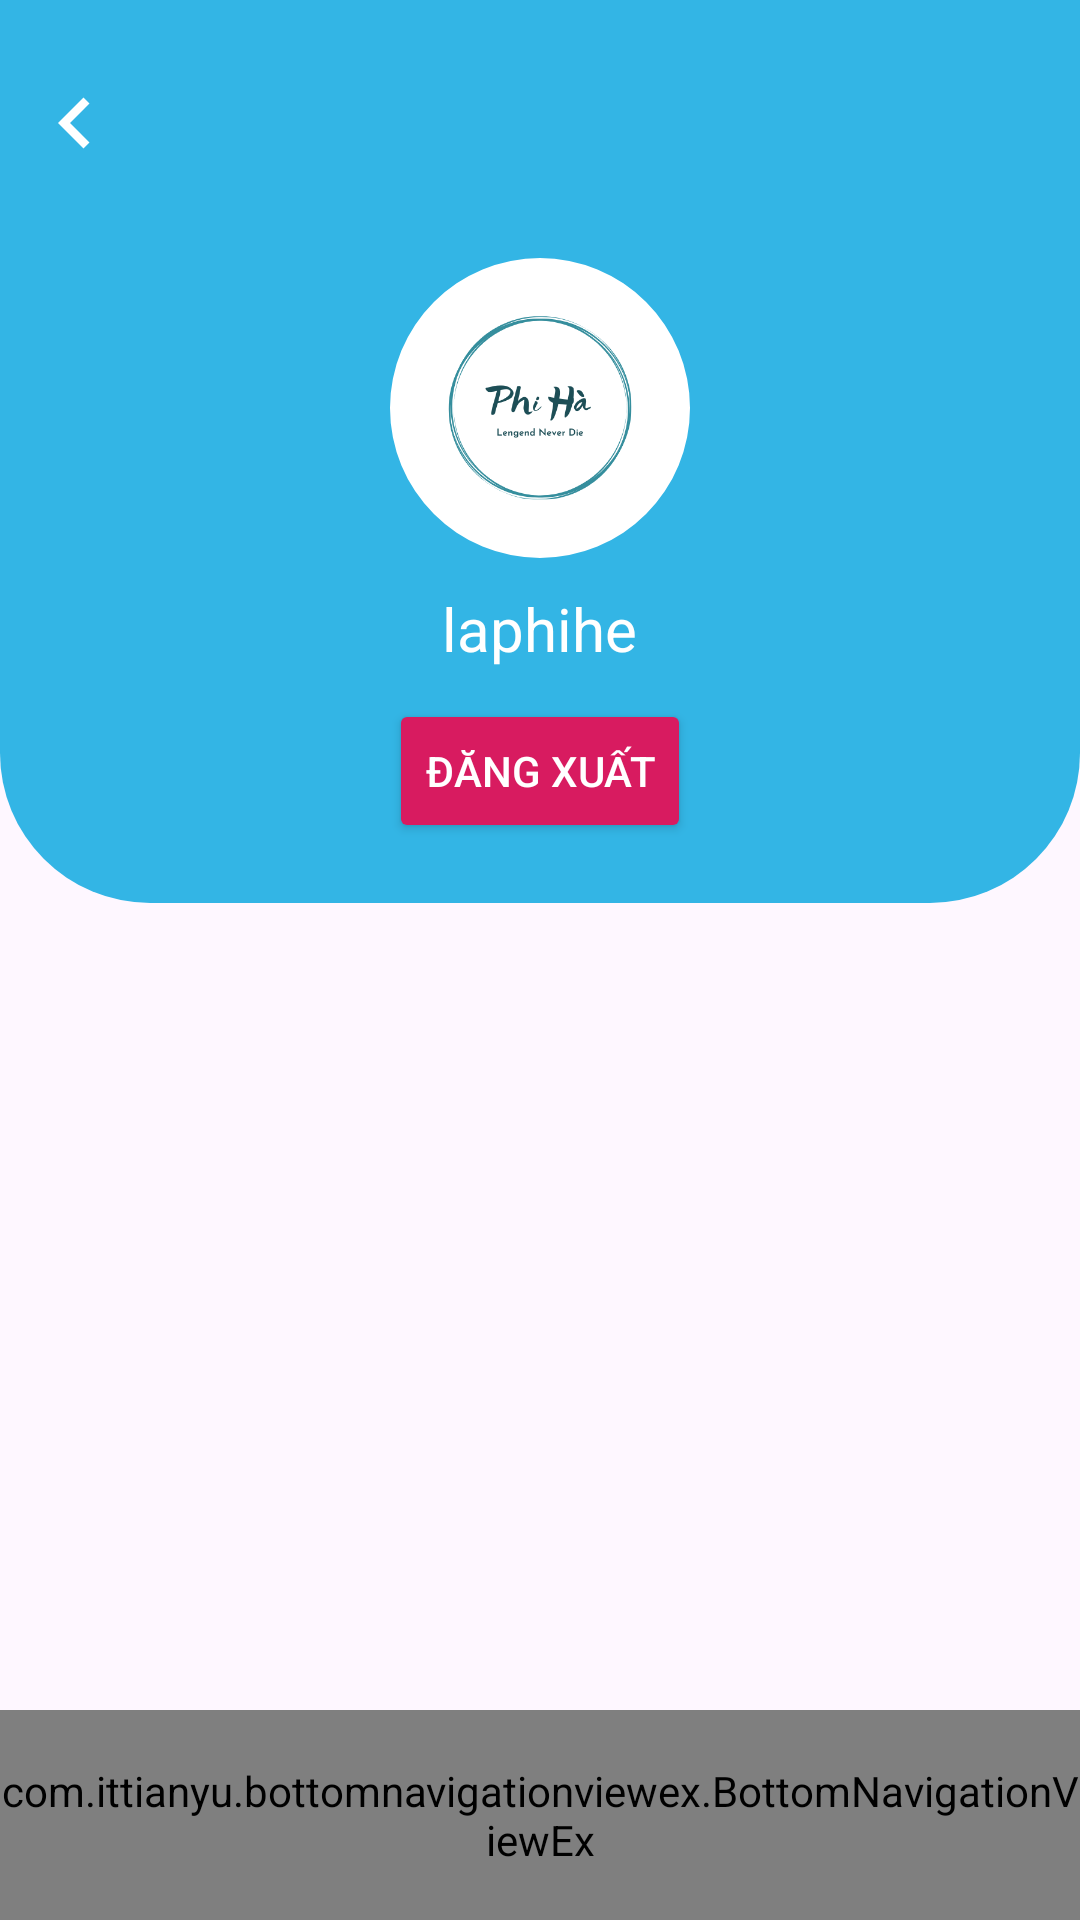

Named icons in this screenshot (1080px×1920px) and their centers, (x,y):
avatar: (540,408)
Back: (74,123)
